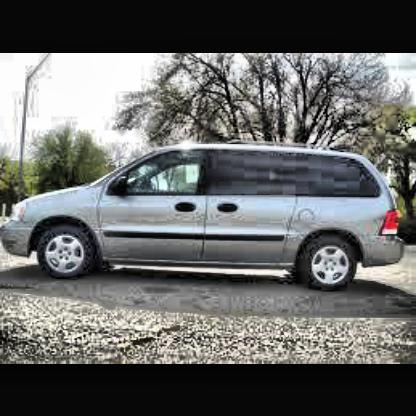Ford Freestar Minivan 2007: (5, 143, 403, 290)
